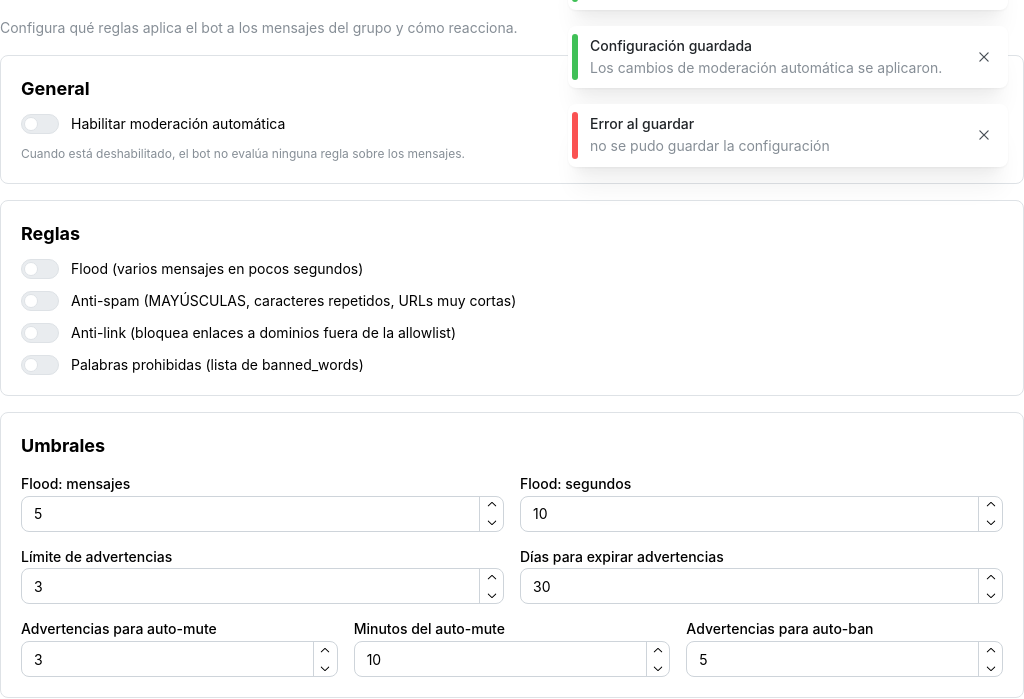
Test: GroupAutomationPage › boton Descartar cambios vuelve al estado original
What coordinates should you click on to do the following:
click the switch labelled "Habilitar moderación automática"
I would click on:
 (153, 124)
Its box is [21,114,285,134].
(page scrolled)
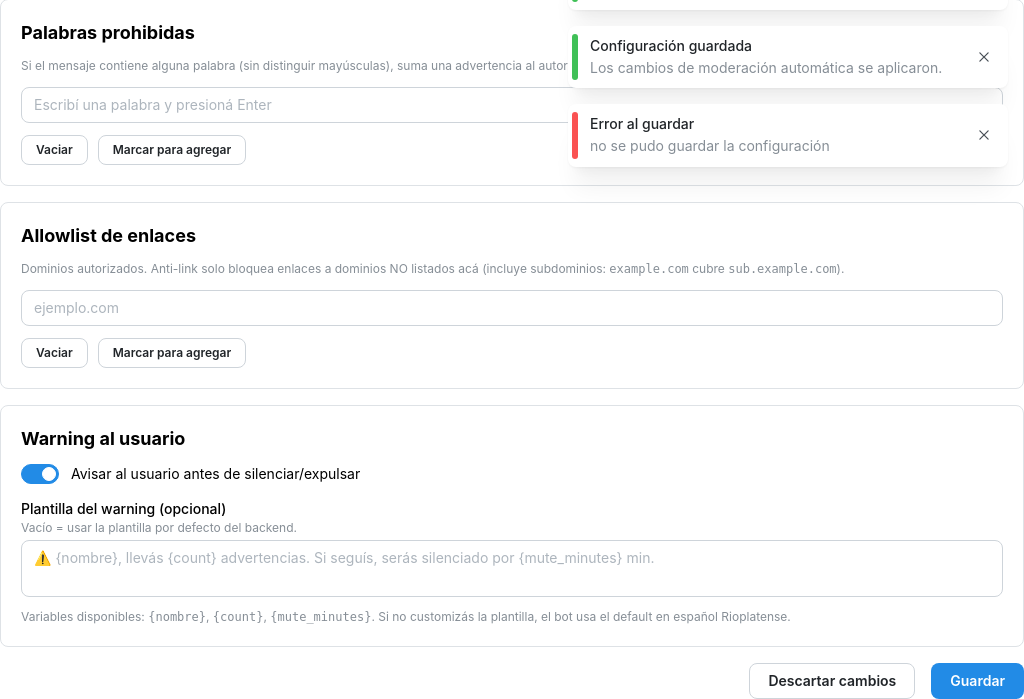
Check: the button "Guardar" is enabled, box [931,663,1023,698]
// Descartar cambios vuelve al estado original (disabled de nuevo)
What coordinates should you click on to do the following:
click the button "Descartar cambios"
I would click on:
 (832, 681)
Its box is [749,663,915,698].
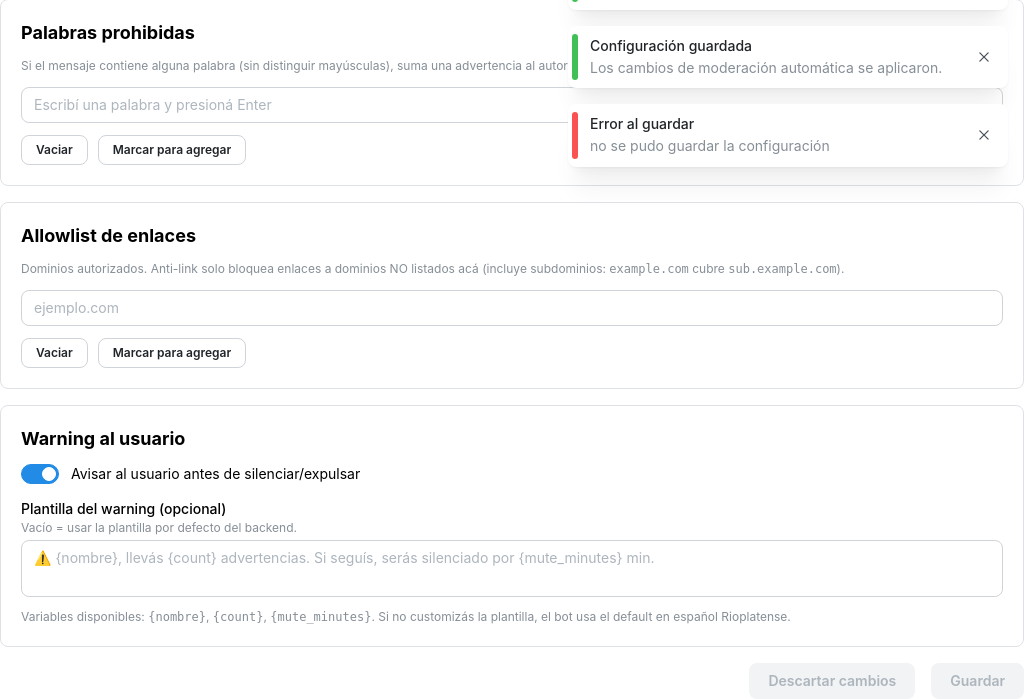
Check: the button "Guardar" is disabled, box [931,663,1023,698]
